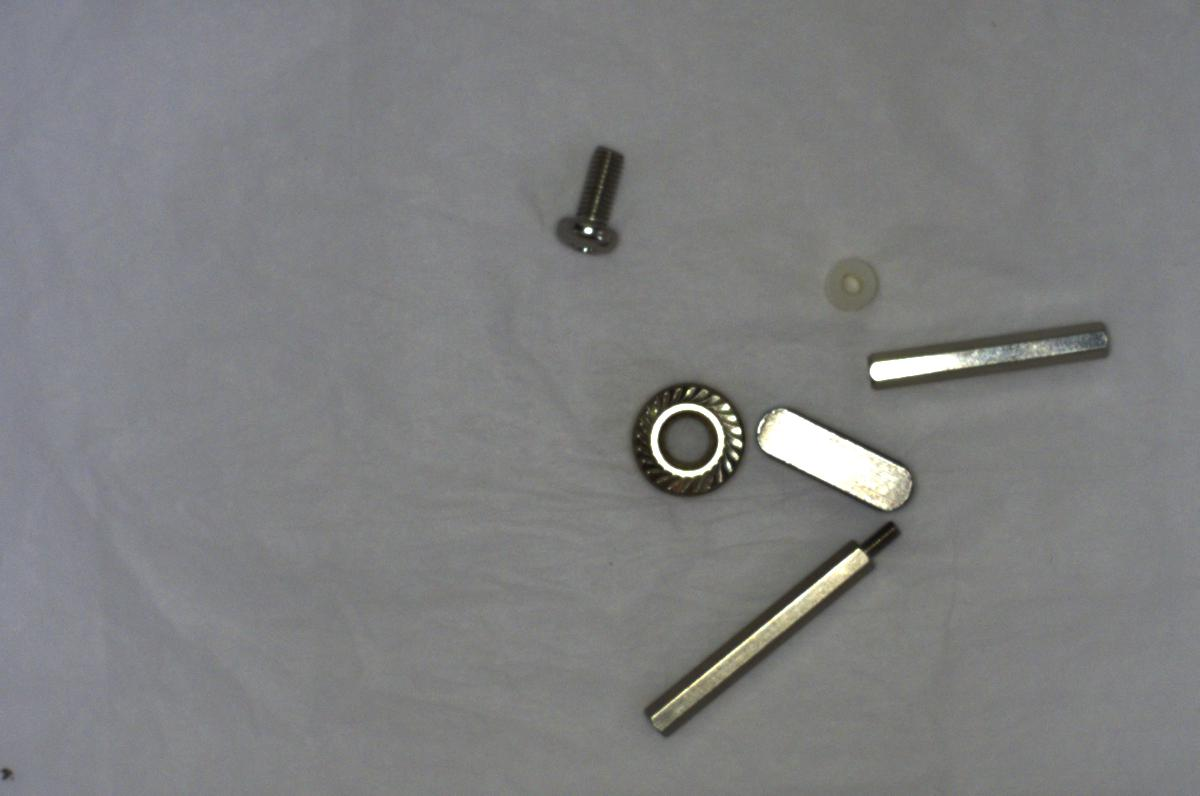Double hexagonal column: (861, 312, 1120, 401)
Flange nut: (620, 368, 751, 500)
Hexagonal steel column: (642, 514, 900, 745)
Keybar: (753, 395, 919, 521)
Plastic cushion pillar: (808, 250, 896, 318)
Round head screw: (556, 141, 632, 259)
